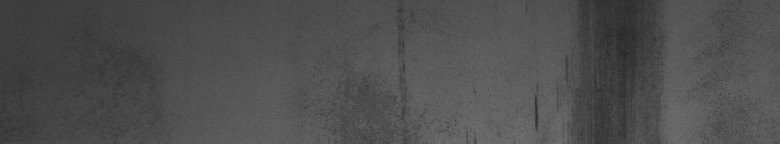ka: (525, 5, 662, 136)
